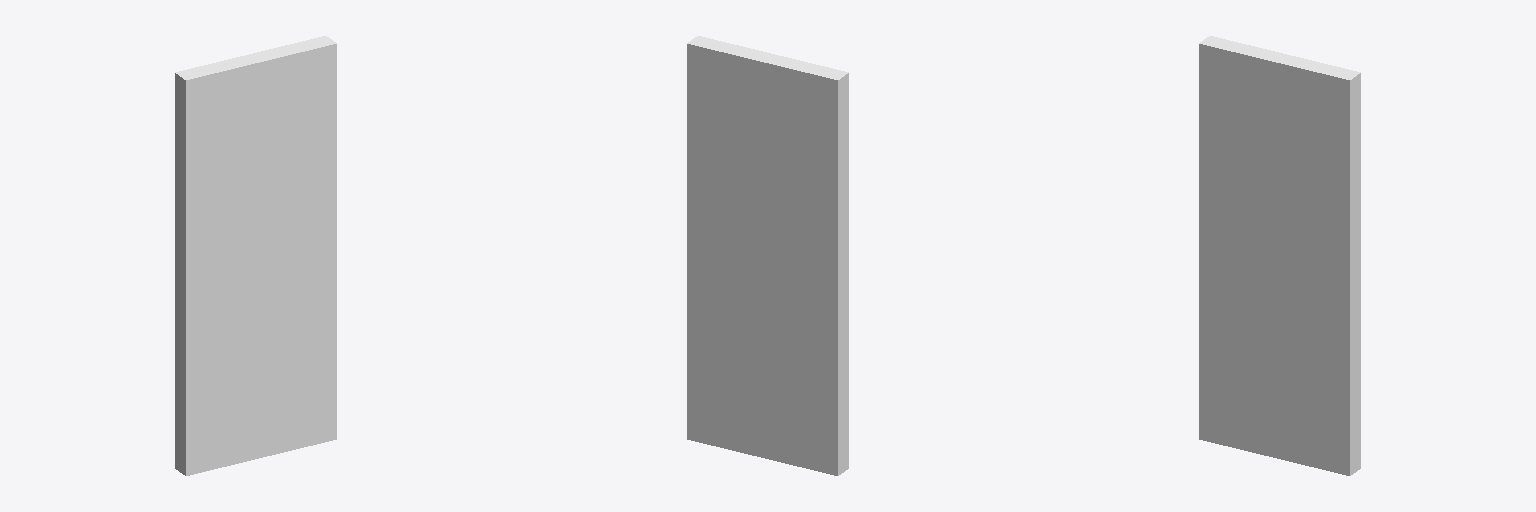
The model's file is door1_left.obj.
3 views of the same model, side by side, from view 1: azimuth 30°, elevation 25°; view 2: azimuth 150°, elevation 25°; view 3: azimuth 330°, elevation 25° (orthographic).
Visible parts, largest first — view 1: object 1; view 2: object 1; view 3: object 1.
Part boxes in pixels (left/top/right/bottom): object 1: left=175, top=36, right=336, bottom=475; object 1: left=687, top=36, right=848, bottom=475; object 1: left=1199, top=36, right=1360, bottom=475.
Size of the model in its own units: 0.8 by 2 by 0.1.